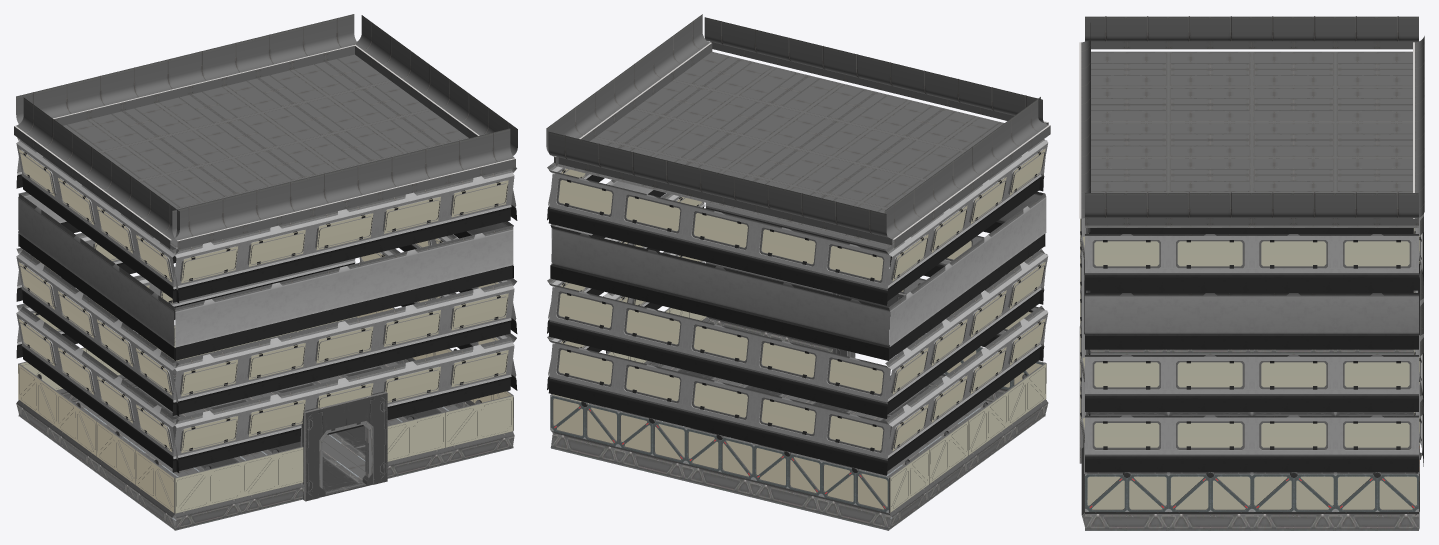
The model's file is sc-office-mid.glb.
3 renders of one model, left to right at view 1: azimuth 30°, elevation 25°; view 2: azimuth 150°, elevation 25°; view 3: azimuth 270°, elevation 25°, orthographic. The views are drawn at different scales.
Visible parts, largest first — view 1: sc-office-mid; view 2: sc-office-mid; view 3: sc-office-mid.
Part boxes in pixels (x1,y1,x2,y2): sc-office-mid: (14,14,517,530); sc-office-mid: (546,14,1050,530); sc-office-mid: (1079,16,1424,530).
Size of the model in its own units: 20.57 by 18.02 by 16.57.
6 materials, 5 textured.
